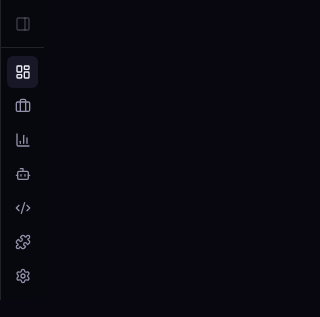
Scenario: ProjectRightSidebar › cycle pinned-open → pinned-collapsed collapses and labels unpin
Step 1. Click the button named "sidebar" → click(22, 24), box [8, 10, 36, 38]
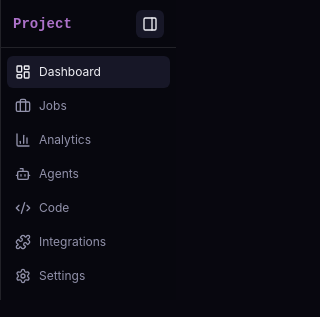
Step 2. Click the button named "sidebar" → click(150, 24), box [136, 10, 164, 38]
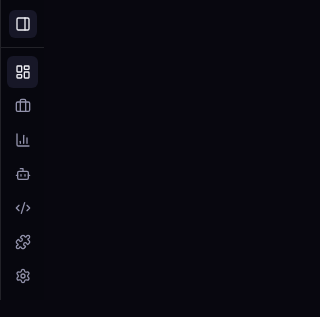
Result: the text "Project" is gone
Result: the button named "Unpin right sidebar" is shown at [8, 10, 36, 38]
